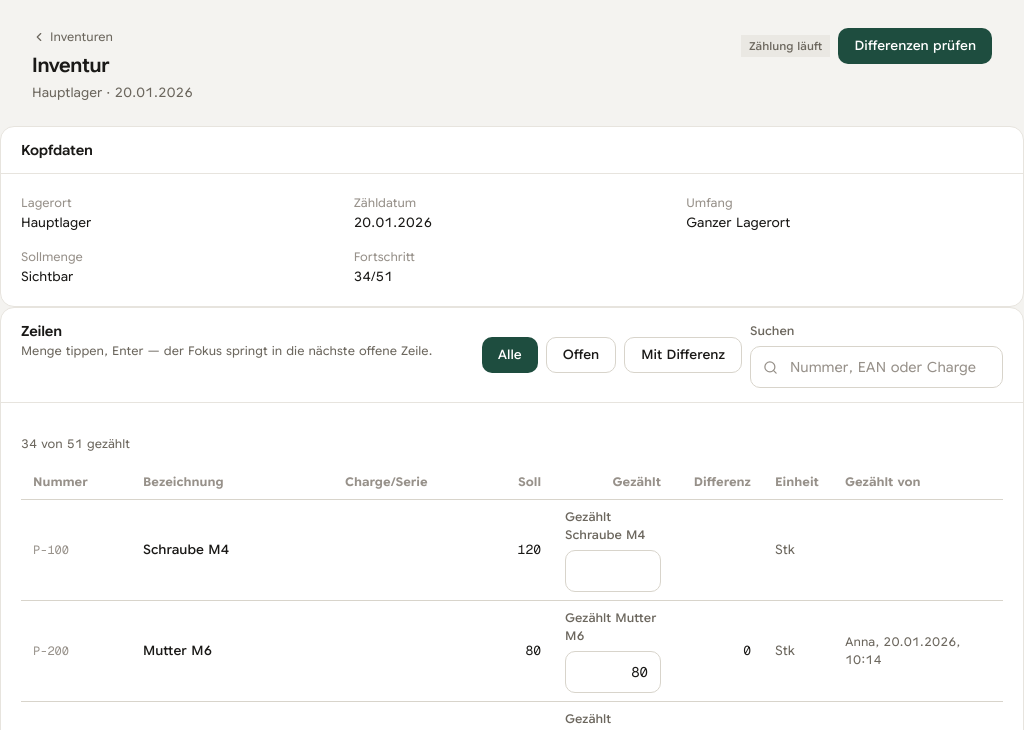
Test: StocktakePage › stocktakePageShowsOnlyTheOpenLinesTest
The width and height of the screenshot is (1024, 730).
Click the button "Offen". click: (581, 355)
box: [546, 337, 616, 373]
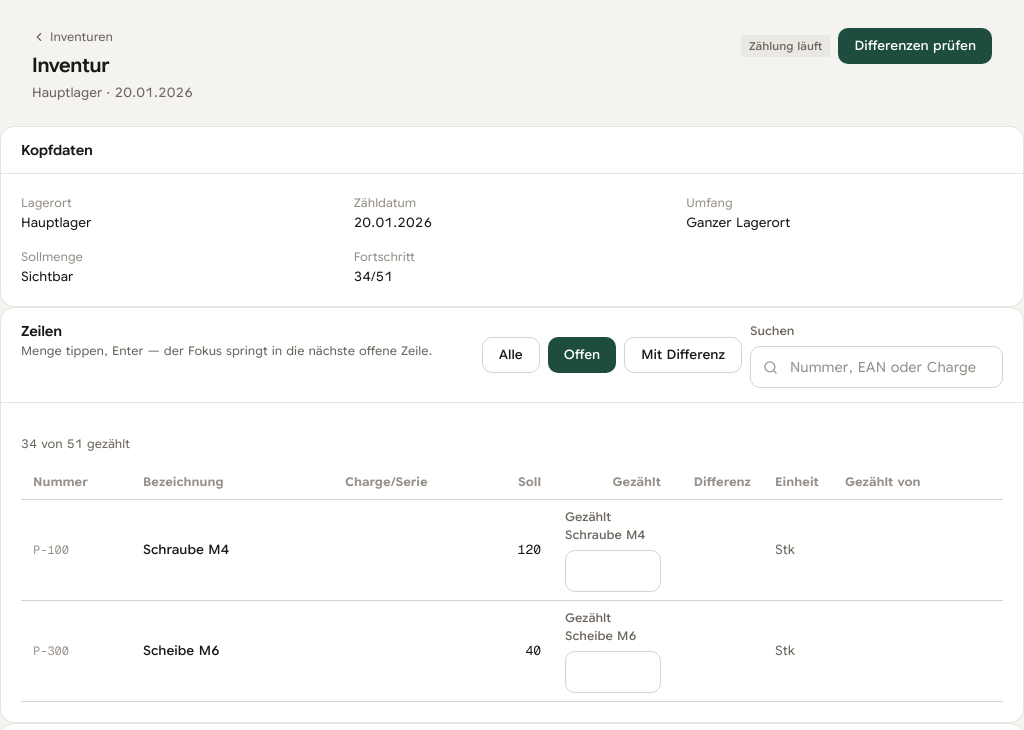
Expected: the text "Schraube M4" is shown, [143, 541, 229, 558]
Now the text "Mutter M6" is gone
Click the button "Alle". click: (511, 355)
box: [482, 337, 540, 373]
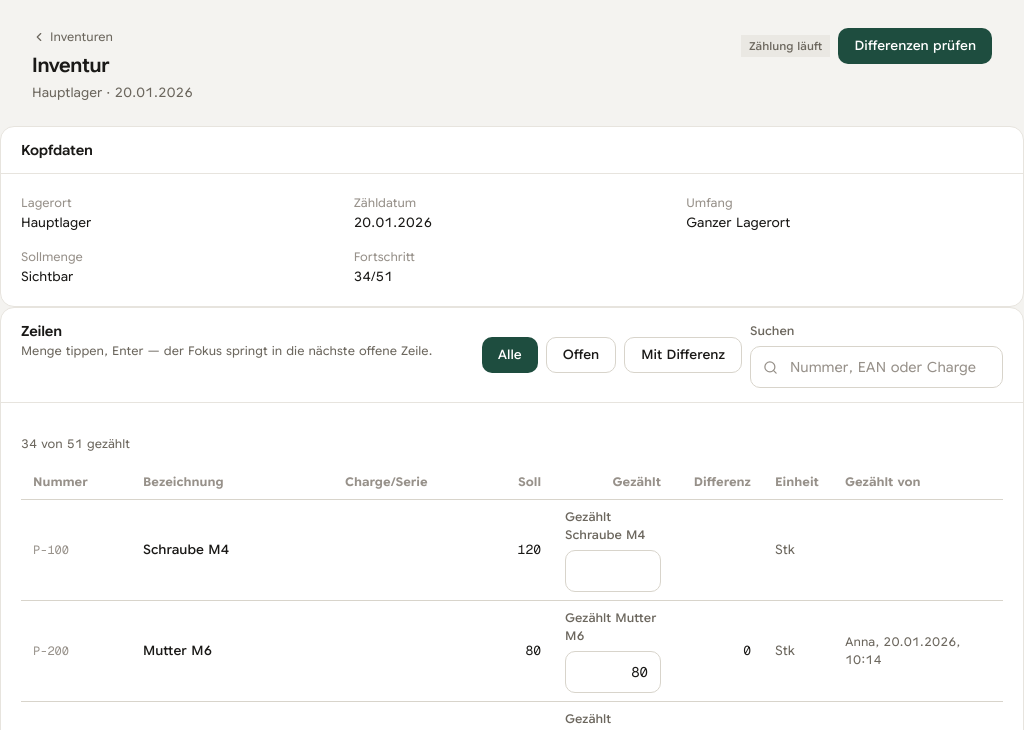
Now the text "Mutter M6" is shown, box [143, 642, 212, 659]
